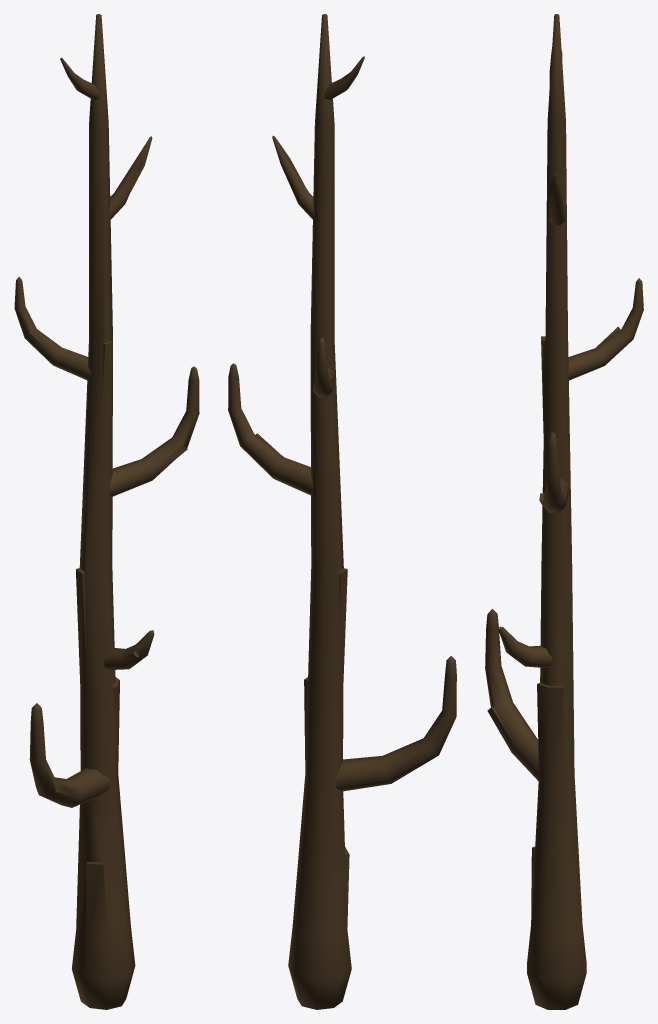
File: Dead_C.glb
3 renders of one model, left to right at view 1: azimuth 30°, elevation 25°; view 2: azimuth 150°, elevation 25°; view 3: azimuth 270°, elevation 25°, orthographic.
Visible parts, largest first — view 1: Dead_C_LOD0; view 2: Dead_C_LOD0; view 3: Dead_C_LOD0.
Boxes of the visible parts, x1,y1,x2,y2 form: Dead_C_LOD0: [14, 14, 199, 1009]; Dead_C_LOD0: [228, 14, 456, 1009]; Dead_C_LOD0: [485, 14, 643, 1009].
Size of what is drawn, in the model's own units: 1.58 by 7.61 by 1.1.
